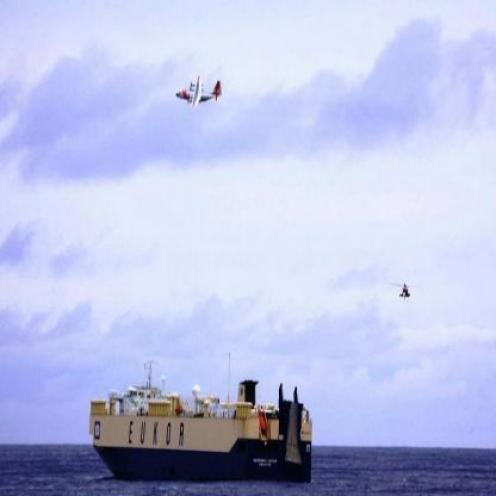Ship: (85, 360, 324, 489)
